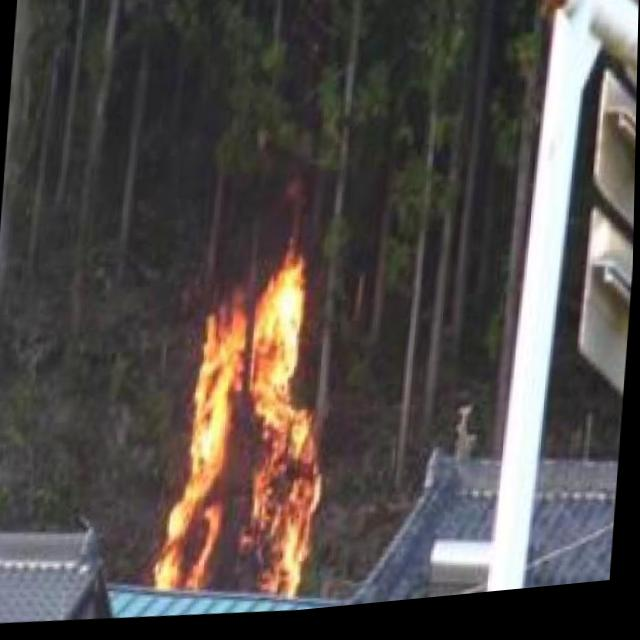Fire: (152, 271, 343, 616)
